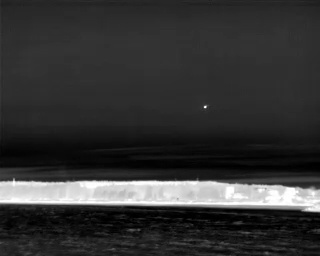HELICOPTER: (201, 102, 211, 114)
